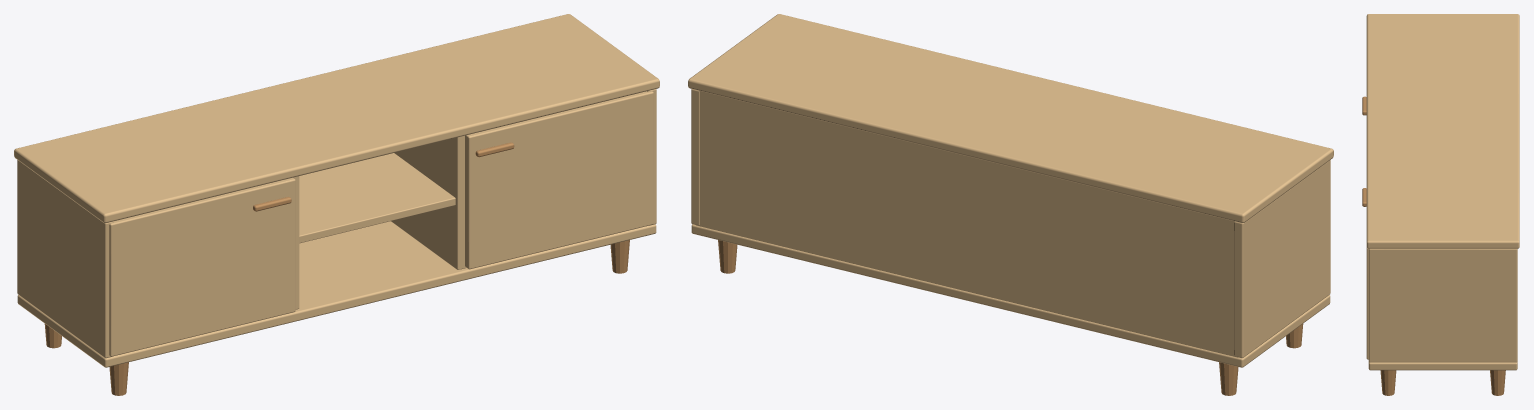
The model's file is tv_stand.glb.
The picture shows the model from 3 angles, left to right: view 1: azimuth 30°, elevation 25°; view 2: azimuth 150°, elevation 25°; view 3: azimuth 270°, elevation 25°; orthographic projection. The views are drawn at different scales.
Visible parts, largest first — view 1: tv_stand; view 2: tv_stand; view 3: tv_stand.
Boxes of the visible parts, <box> form: tv_stand: <box>14,14,659,395</box>; tv_stand: <box>688,14,1333,395</box>; tv_stand: <box>1362,14,1519,395</box>.
Size of the model in its own units: 1.2 by 0.4 by 0.35.
